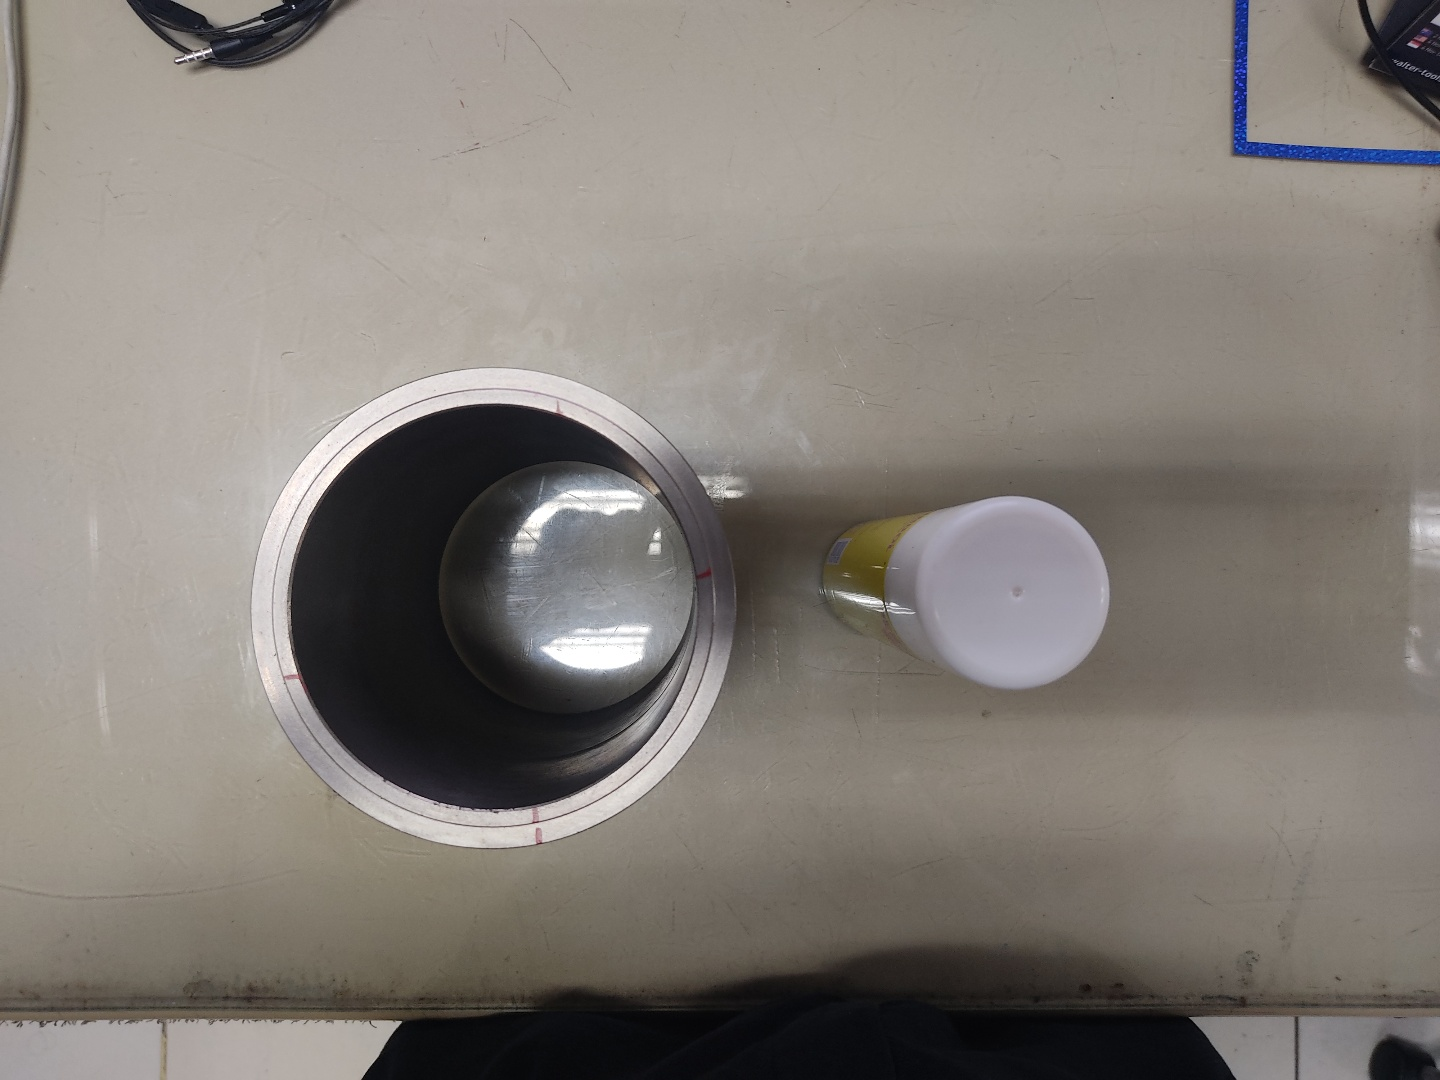cylinder: (242, 358, 745, 857)
